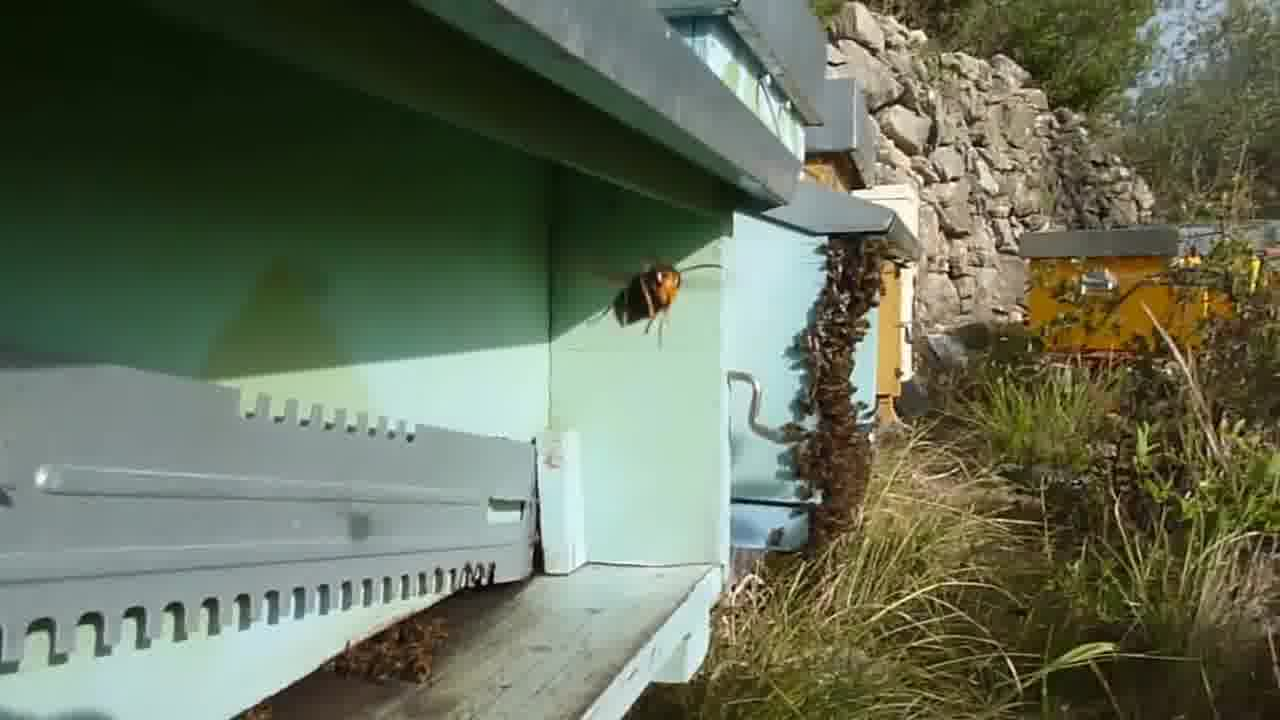bee: (782, 400, 869, 471), (815, 237, 891, 316), (793, 312, 858, 400), (814, 472, 877, 536), (361, 627, 439, 678)
hornet: (613, 255, 698, 334)
